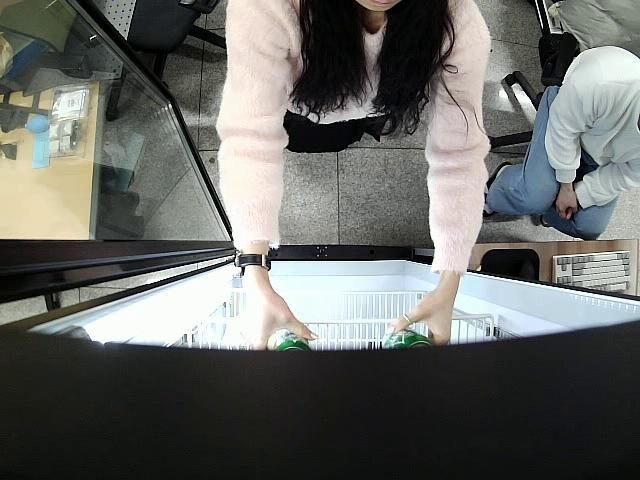12_chilsungCider: (269, 327, 314, 352), (385, 331, 436, 348)
